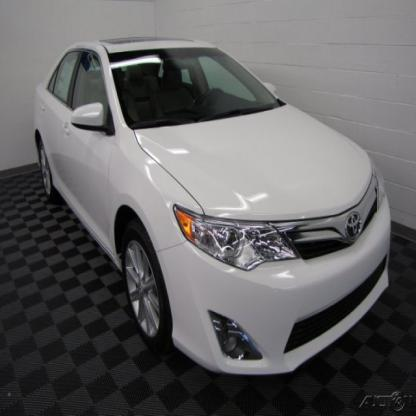Vehicle: (32, 37, 393, 380)
